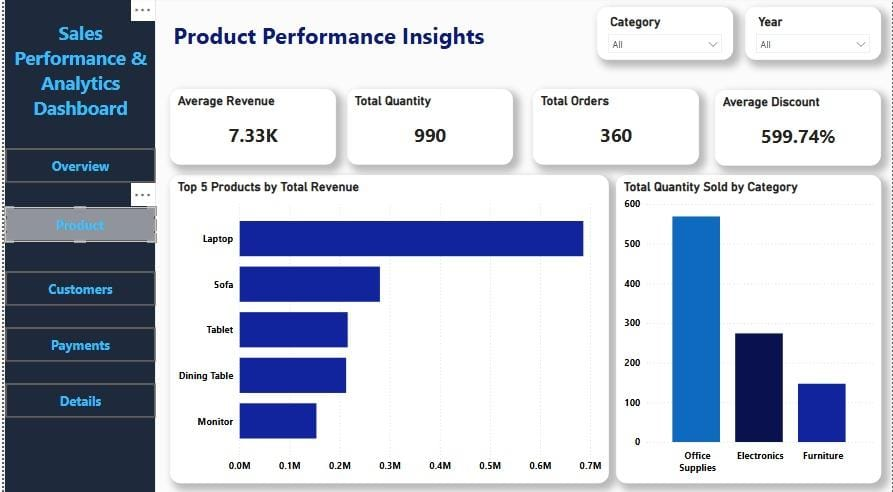

What the dashboard file says about the page in this screenshot:
{"tool":"powerbi","page":{"name":"Product","canvas":[1280,720],"ordinal":1},"visuals":[{"type":"shape","box":[0,0,218.9,720],"z":0},{"type":"actionButton","box":[1.4,217.4,217.4,50.4],"z":1000},{"type":"actionButton","box":[1.4,302.4,217.4,50.4],"z":2000},{"type":"actionButton","box":[1.4,394.6,217.4,50.4],"z":3000},{"type":"actionButton","box":[1.4,475.2,217.4,50.4],"z":4000},{"type":"actionButton","box":[1.4,555.8,217.4,50.4],"z":5000},{"type":"textbox","box":[1.4,27.4,217.4,159.8],"z":6000},{"type":"textbox","box":[239,27.4,493.9,63.4],"z":7000},{"type":"slicer","fields":{"Values":["Sales_Data_Analysis_2025.Year"]},"box":[1067,14.4,195.8,76.3],"z":8000},{"type":"slicer","fields":{"Values":["Sales_Data_Analysis_2025.Category"]},"box":[853.9,14.4,195.8,76.3],"z":9000},{"type":"cardVisual","title":"Total Quantity","fields":{"Data":["Sum(Sales_Data_Analysis_2025.Quantity)"]},"box":[493.9,132.5,239,109.4],"z":11000},{"type":"cardVisual","title":"Total Orders","fields":{"Data":["Count(Sales_Data_Analysis_2025.Order_ID)"]},"box":[761.8,132.5,239,109.4],"z":12000},{"type":"cardVisual","title":"Average Discount","fields":{"Data":["Avg(Sales_Data_Analysis_2025.Discount)"]},"box":[1023.8,133.9,239,109.4],"z":13000},{"type":"clusteredBarChart","title":"Top 5 Products by Total Revenue","fields":{"Category":["Sales_Data_Analysis_2025.Product"],"Y":["Sum(Sales_Data_Analysis_2025.Sales)"]},"box":[239,256.3,632.2,443.5],"z":14000},{"type":"clusteredColumnChart","title":"Total Quantity Sold by Category","fields":{"Category":["Sales_Data_Analysis_2025.Category"],"Y":["Sum(Sales_Data_Analysis_2025.Quantity)"]},"box":[881.3,256.3,381.6,443.5],"z":15000},{"type":"cardVisual","title":"Average Revenue ","fields":{"Data":["Avg(Sales_Data_Analysis_2025.Sales)"]},"box":[239,132.5,239,109.4],"z":15001}]}

Visuals, with their boxes on the page's 1280x720 design canvas (x1, y1, x2, y2). These are canvas units, not pixel positions in the 893x492 screenshot, which may show the page scaled, cropped or inside an application window:
shape: [x1=0, y1=0, x2=219, y2=720]
actionButton: [x1=1, y1=217, x2=219, y2=268]
actionButton: [x1=1, y1=302, x2=219, y2=353]
actionButton: [x1=1, y1=395, x2=219, y2=445]
actionButton: [x1=1, y1=475, x2=219, y2=526]
actionButton: [x1=1, y1=556, x2=219, y2=606]
textbox: [x1=1, y1=27, x2=219, y2=187]
textbox: [x1=239, y1=27, x2=733, y2=91]
slicer - Sales_Data_Analysis_2025.Year: [x1=1067, y1=14, x2=1263, y2=91]
slicer - Sales_Data_Analysis_2025.Category: [x1=854, y1=14, x2=1050, y2=91]
"Total Quantity" cardVisual: [x1=494, y1=132, x2=733, y2=242]
"Total Orders" cardVisual: [x1=762, y1=132, x2=1001, y2=242]
"Average Discount" cardVisual: [x1=1024, y1=134, x2=1263, y2=243]
"Top 5 Products by Total Revenue" clusteredBarChart: [x1=239, y1=256, x2=871, y2=700]
"Total Quantity Sold by Category" clusteredColumnChart: [x1=881, y1=256, x2=1263, y2=700]
"Average Revenue " cardVisual: [x1=239, y1=132, x2=478, y2=242]
